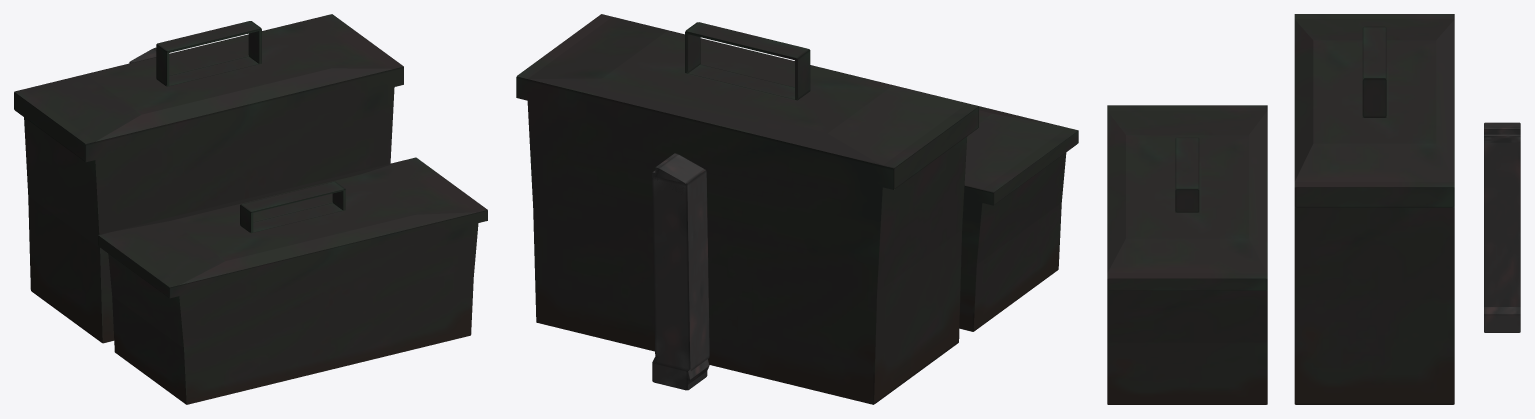
File: Cargadores.fbx
3 renders of one model, left to right at view 1: azimuth 30°, elevation 25°; view 2: azimuth 150°, elevation 25°; view 3: azimuth 270°, elevation 25°, orthographic. The views are drawn at different scales.
Visible parts, largest first — view 1: AmmoBox, AmmoBox_1; view 2: AmmoBox, AmmoBox_1, cube; view 3: AmmoBox, AmmoBox_1, cube.
Part boxes in pixels (x1,y1,x2,y2): AmmoBox: (14, 14, 403, 343); AmmoBox_1: (98, 157, 487, 404); AmmoBox: (516, 14, 978, 404); AmmoBox_1: (959, 106, 1078, 331); cube: (652, 153, 709, 390); AmmoBox: (1294, 14, 1454, 404); AmmoBox_1: (1107, 105, 1267, 404); cube: (1484, 122, 1520, 332).
Bounding box in the file's own units: 58.98 × 43.65 × 59.47.
Materials: 2 (2 with a texture image).
